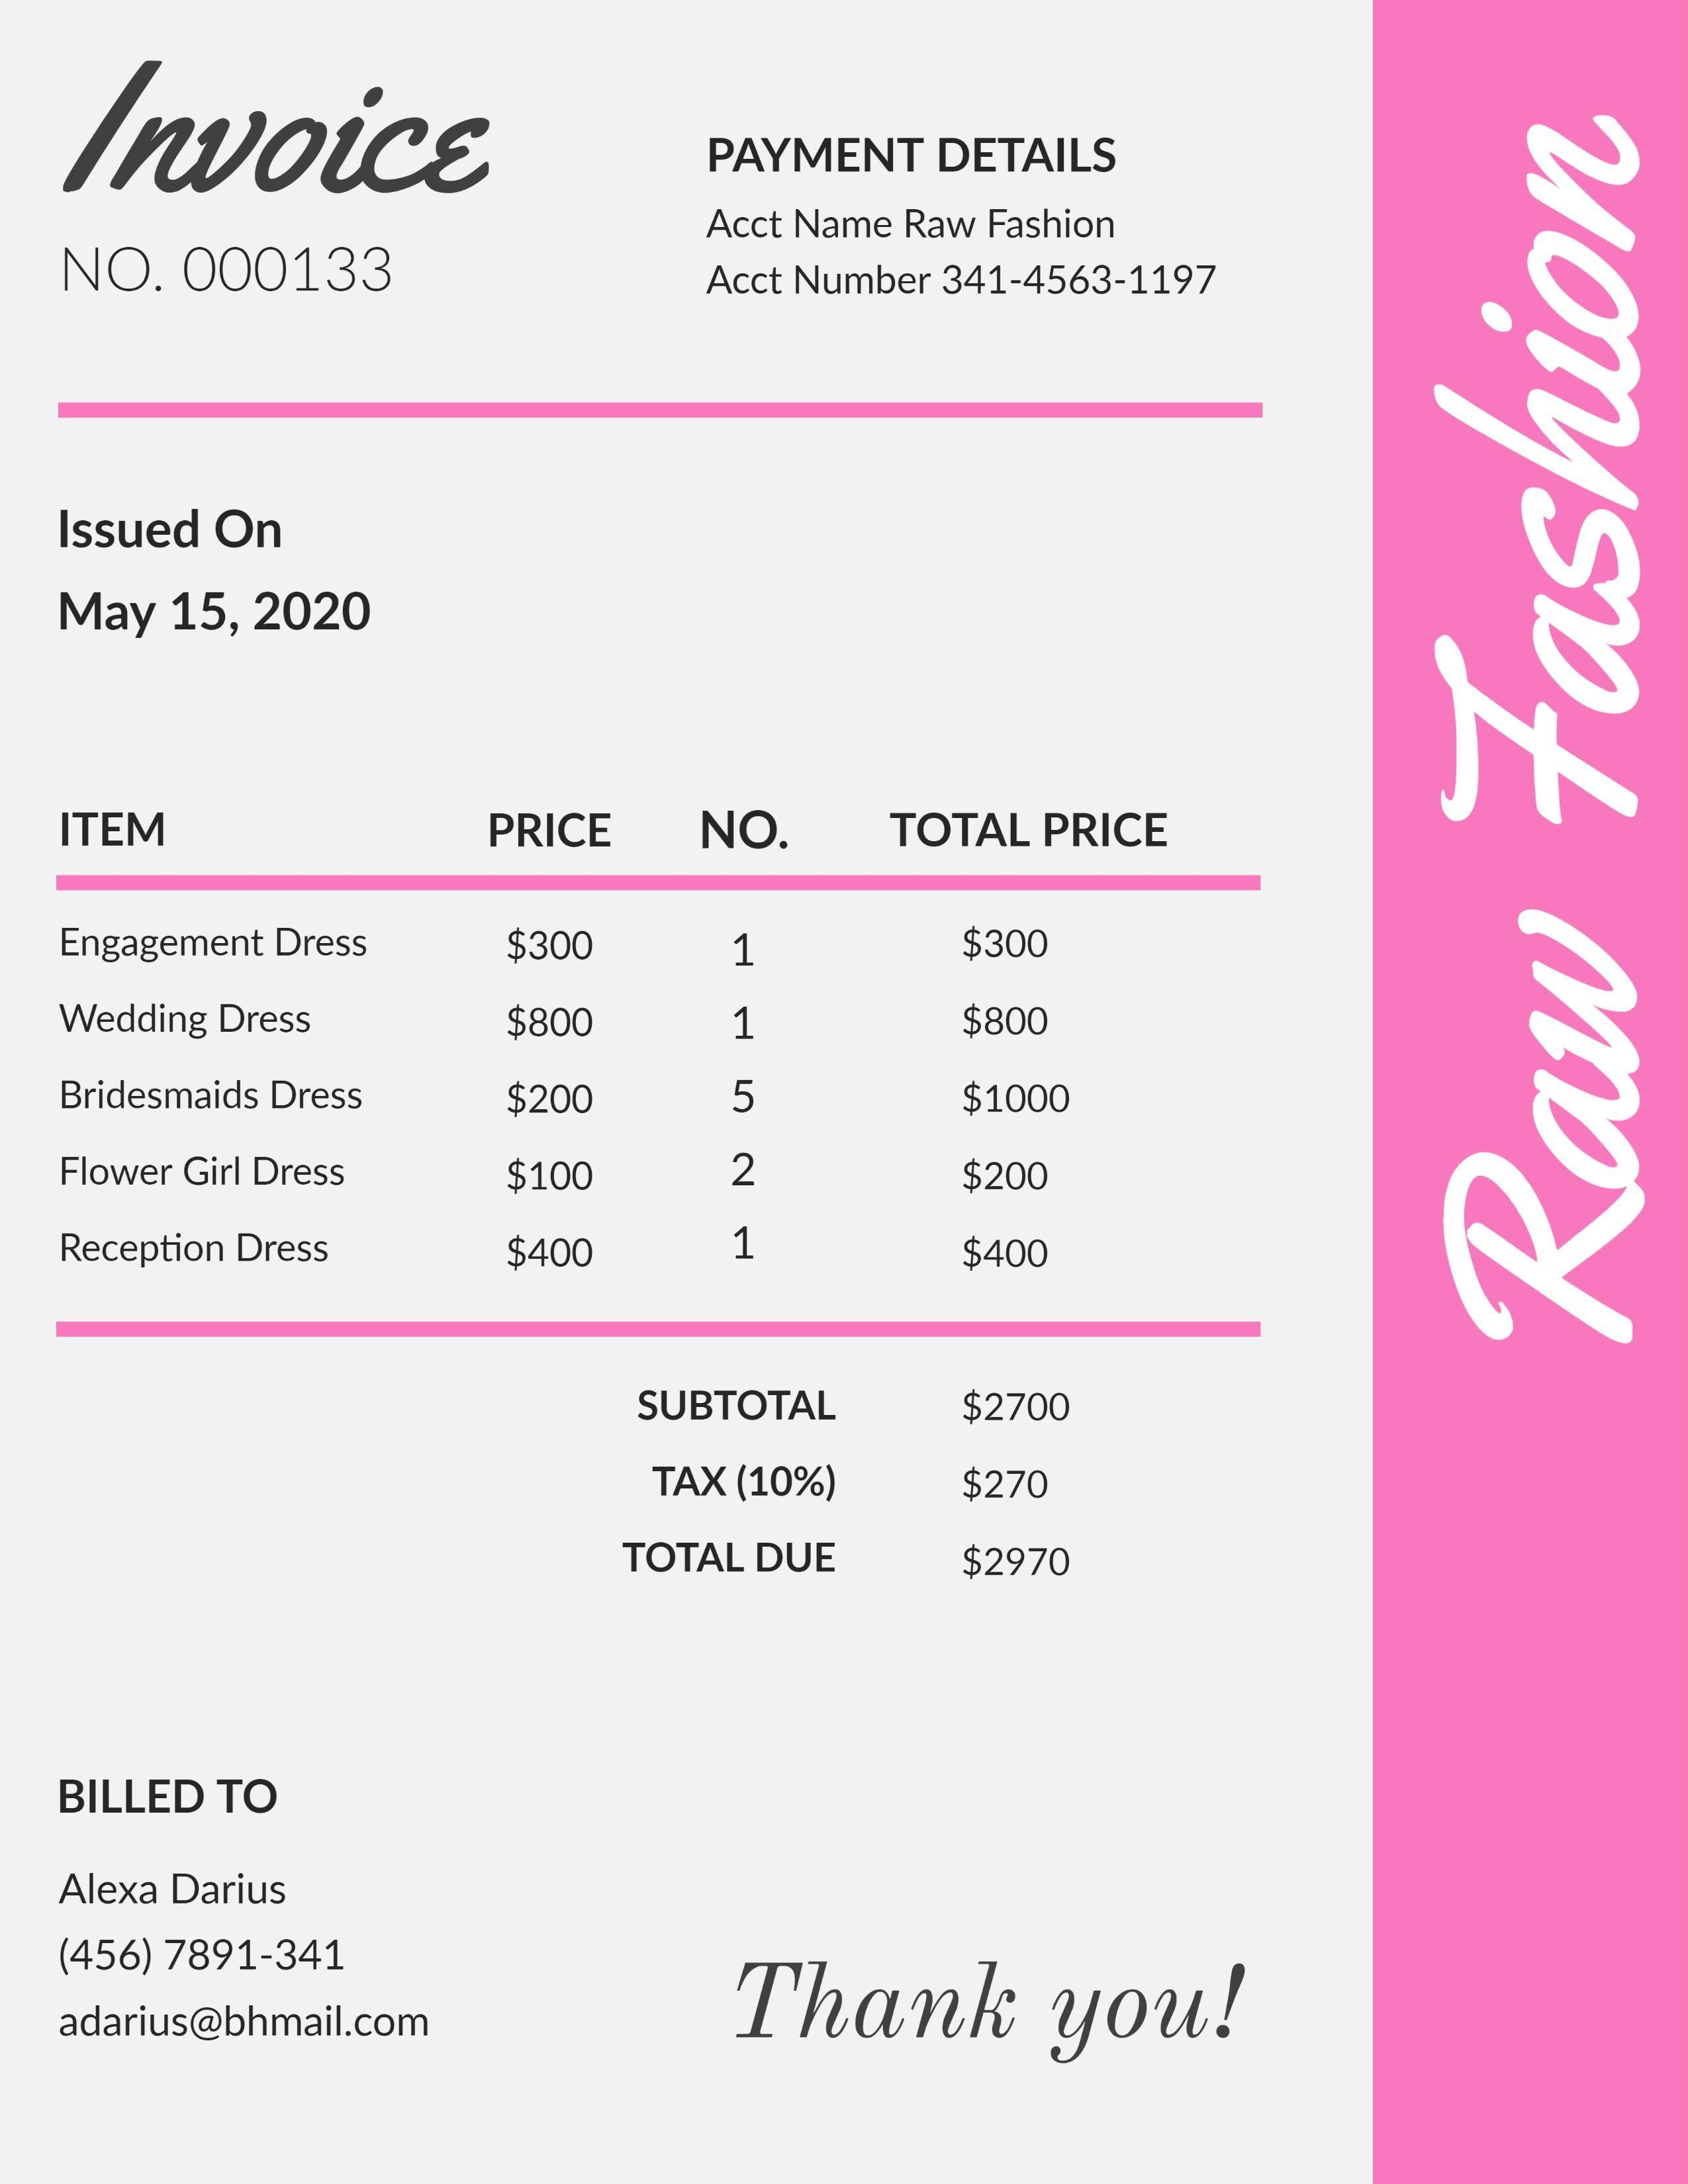ROI: (56, 811, 1271, 1340), (1390, 79, 1678, 1357), (46, 238, 410, 645), (46, 1760, 444, 2062), (616, 1367, 1109, 1602), (695, 126, 1251, 318)
